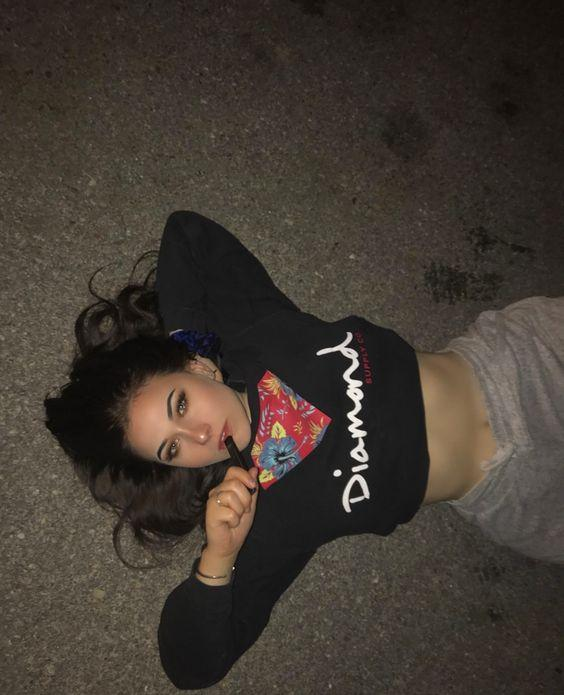Vape: (224, 435, 256, 495)
